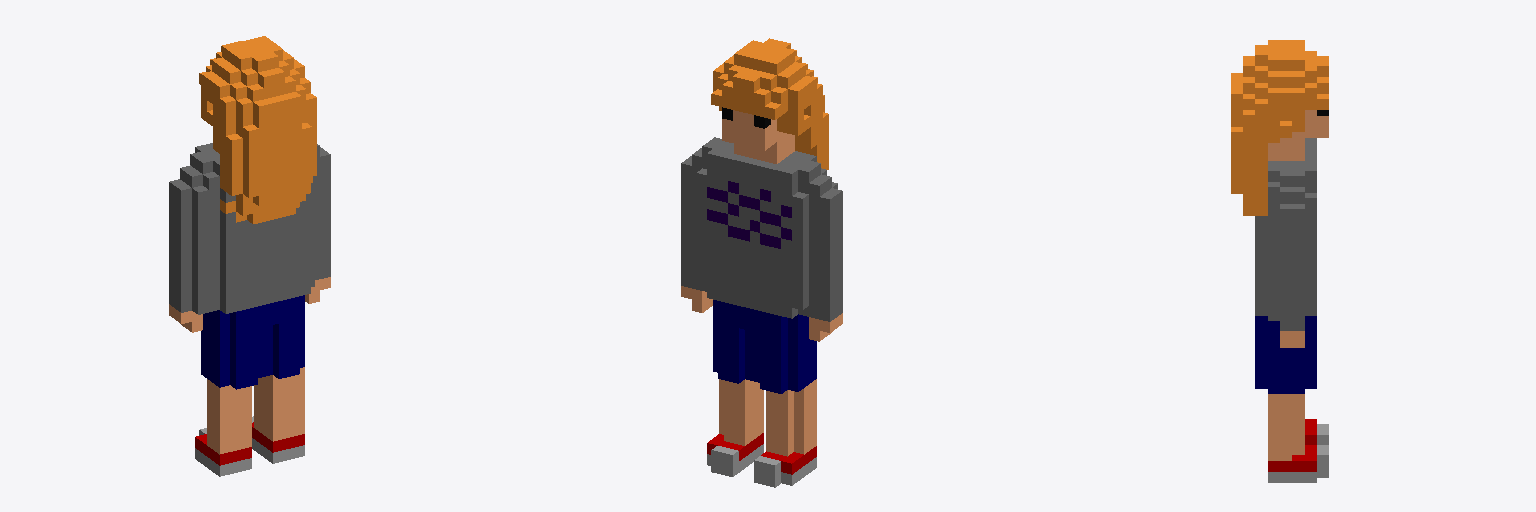
3 renders of one model, left to right at view 1: azimuth 30°, elevation 25°; view 2: azimuth 150°, elevation 25°; view 3: azimuth 270°, elevation 25°, orthographic.
Parts seen in each view (by area): view 1: object 1; view 2: object 1; view 3: object 1.
Part boxes in pixels (x1,y1,x2,y2): object 1: (169, 36, 330, 476); object 1: (681, 38, 842, 487); object 1: (1231, 40, 1328, 482).
Size of the model in its own units: 1.4 by 3.7 by 0.8.
1 materials, 1 textured.